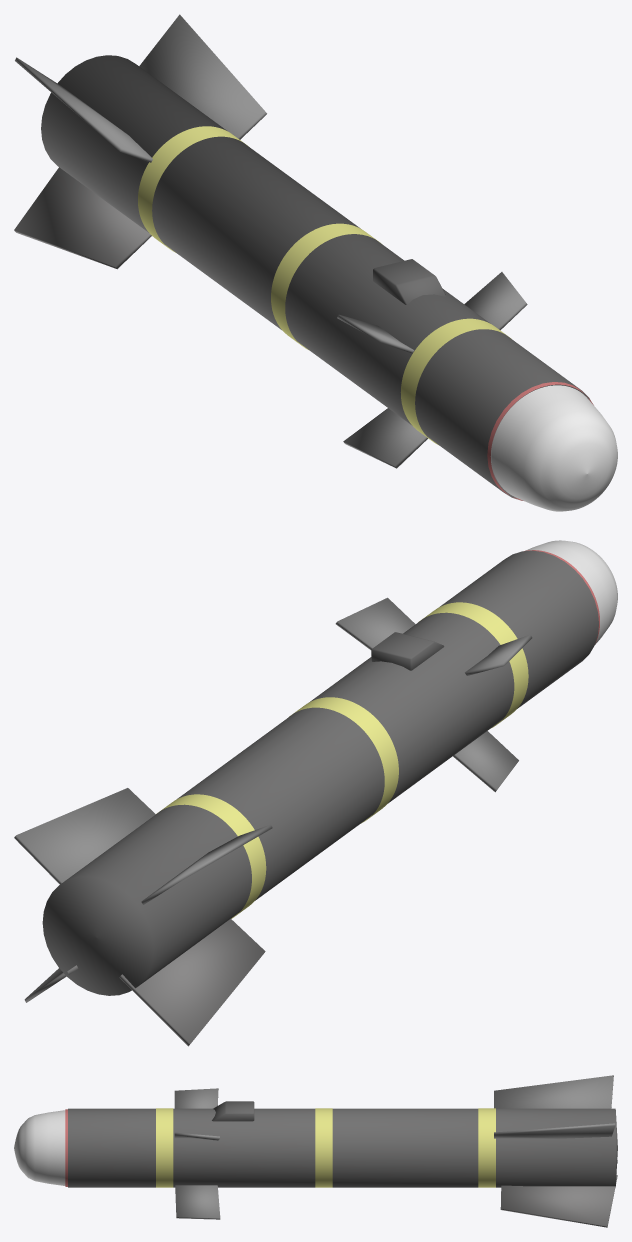
Rendered from hellfiremissile.fbx.
3 renders of one model, top to bottom at view 1: azimuth 30°, elevation 25°; view 2: azimuth 150°, elevation 25°; view 3: azimuth 270°, elevation 25°, orthographic. The views are drawn at different scales.
Parts seen in each view (by area): view 1: Circle, Circle_003, Plane_002, Circle_001, Plane_001, Plane, Plane_003, Plane_004, Circle_002; view 2: Circle, Plane_001, Plane_002, Circle_001, Plane, Circle_003, Plane_003, Plane_004; view 3: Circle, Plane_002, Circle_001, Plane_001, Circle_003, Plane_003, Plane, Plane_004, Circle_002.
Part boxes in pixels (<box>): Circle: <box>41,55,589,500</box>; Circle_003: <box>491,385,617,511</box>; Plane_002: <box>15,14,266,162</box>; Circle_001: <box>138,126,511,445</box>; Plane_001: <box>14,167,151,269</box>; Plane: <box>337,272,527,353</box>; Plane_003: <box>343,408,427,468</box>; Plane_004: <box>373,259,446,304</box>; Circle_002: <box>487,382,593,500</box>; Circle: <box>42,550,598,995</box>; Plane_001: <box>24,918,265,1046</box>; Plane_002: <box>14,788,272,904</box>; Circle_001: <box>156,602,528,918</box>; Plane: <box>335,597,532,675</box>; Circle_003: <box>526,540,617,644</box>; Plane_003: <box>453,731,518,792</box>; Plane_004: <box>371,632,444,670</box>; Circle: <box>68,1108,617,1187</box>; Plane_002: <box>494,1075,615,1138</box>; Circle_001: <box>156,1108,495,1187</box>; Plane_001: <box>500,1160,617,1227</box>; Circle_003: <box>14,1110,65,1185</box>; Plane_003: <box>175,1185,220,1219</box>; Plane: <box>174,1088,219,1140</box>; Plane_004: <box>212,1101,254,1121</box>; Circle_002: <box>65,1109,67,1186</box>.
Size of the model in its own units: 58.03 by 53.9 by 276.
